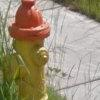Hydrant: (9, 2, 61, 99)
